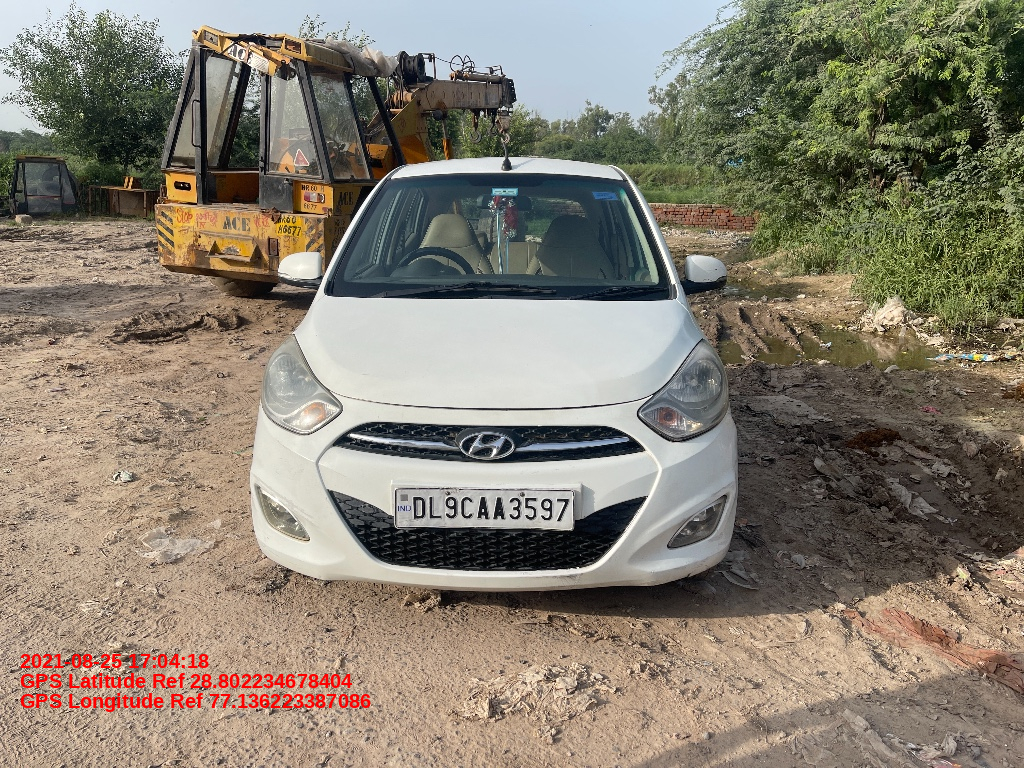Cracked: (686, 562, 713, 580)
Scratched: (258, 534, 287, 559), (542, 573, 588, 588), (706, 526, 733, 551), (357, 372, 378, 381)
